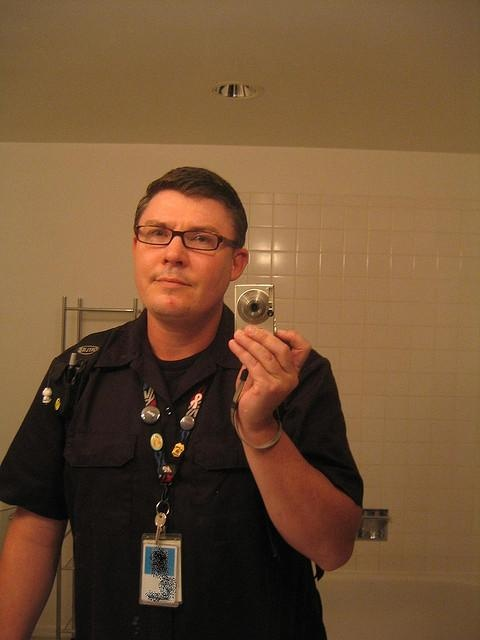person: (1, 167, 372, 640)
